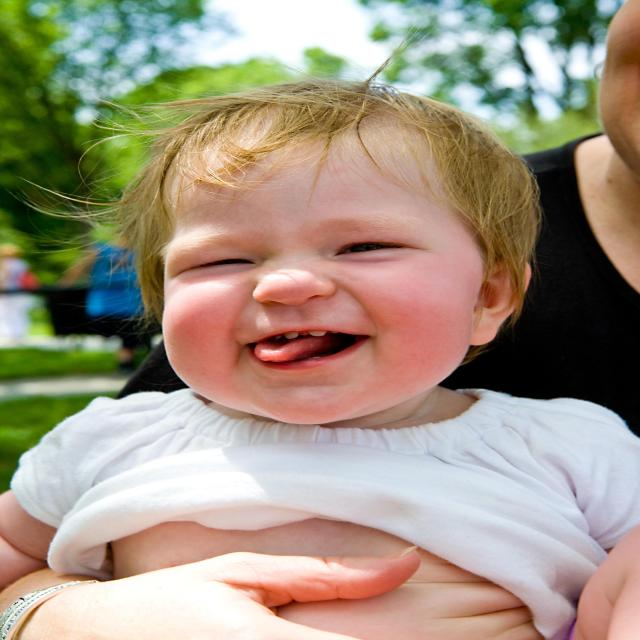no-glass: (161, 236, 408, 286)
